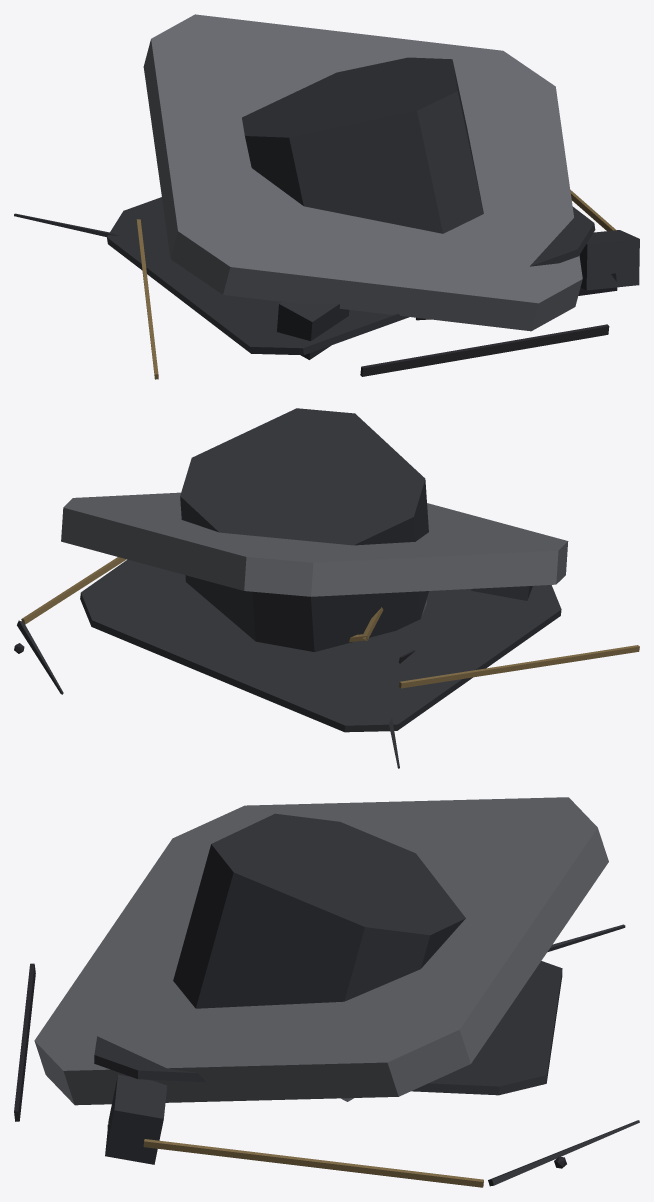
The model's file is Wreck_Aegis_SensorArray.fbx.
3 renders of one model, top to bottom at view 1: azimuth 30°, elevation 25°; view 2: azimuth 150°, elevation 25°; view 3: azimuth 270°, elevation 25°, orthographic. The views are drawn at different scales.
Visible parts, largest first — view 1: Wreck_Aegis_SensorArray; view 2: Wreck_Aegis_SensorArray; view 3: Wreck_Aegis_SensorArray.
Part boxes in pixels (x1,y1,x2,y2): Wreck_Aegis_SensorArray: (14, 14, 639, 379); Wreck_Aegis_SensorArray: (14, 408, 639, 768); Wreck_Aegis_SensorArray: (14, 797, 639, 1187).
Bounding box in the file's own units: 2.95 × 1.07 × 2.73.
